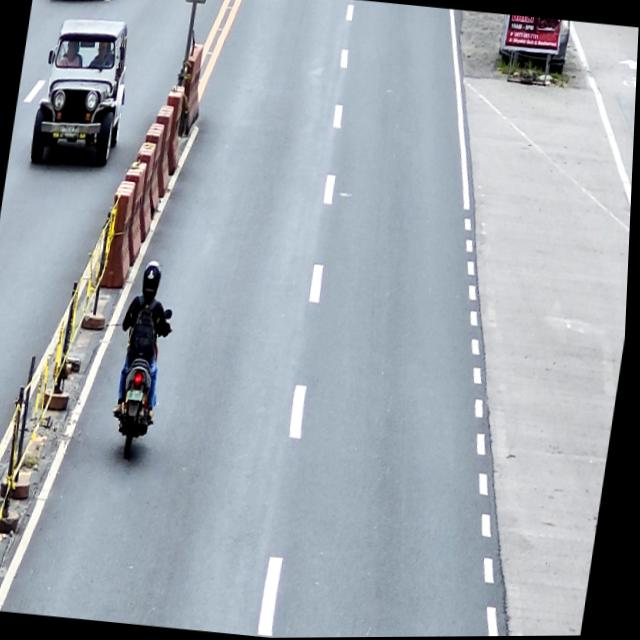Car: (29, 13, 136, 169)
License-Plate: (60, 125, 81, 137), (129, 389, 147, 401)
Motorcycle: (111, 305, 176, 462)
